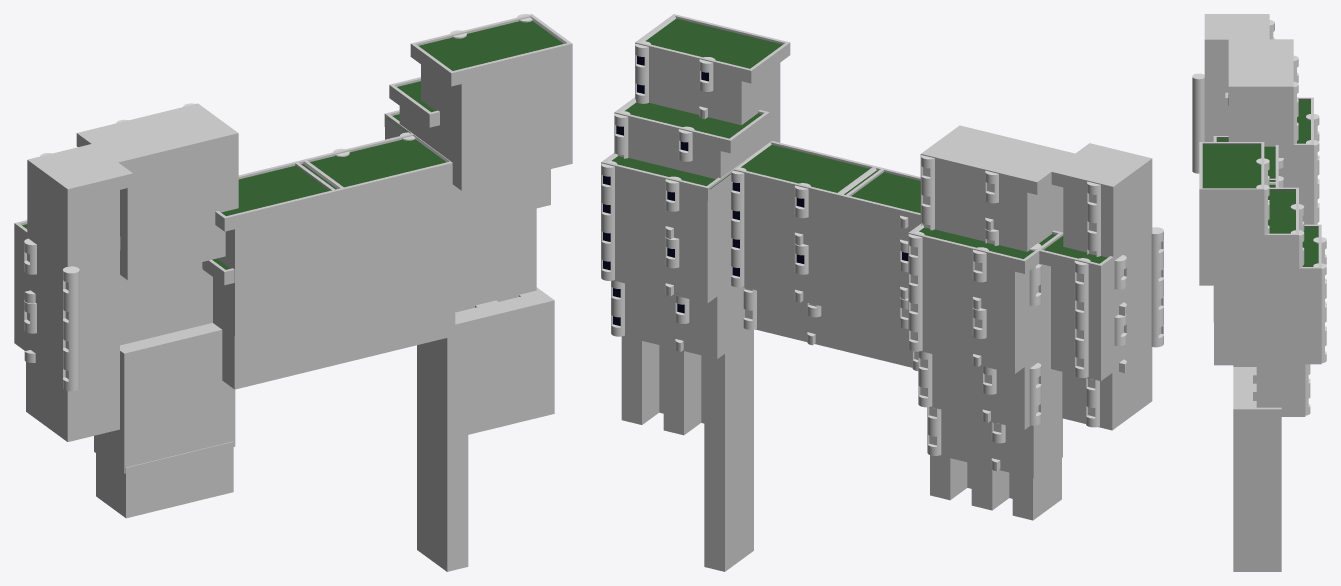
Rendered from Building08.fbx.
The picture shows the model from 3 angles, left to right: view 1: azimuth 30°, elevation 25°; view 2: azimuth 150°, elevation 25°; view 3: azimuth 270°, elevation 25°; orthographic projection. The views are drawn at different scales.
Visible parts, largest first — view 1: 08; view 2: 08; view 3: 08.
Boxes of the visible parts, x1,y1,x2,y2 form: 08: (14,14,572,571); 08: (601,14,1163,571); 08: (1192,14,1326,571).
Bounding box in the file's own units: 2277 × 2202 × 647.
